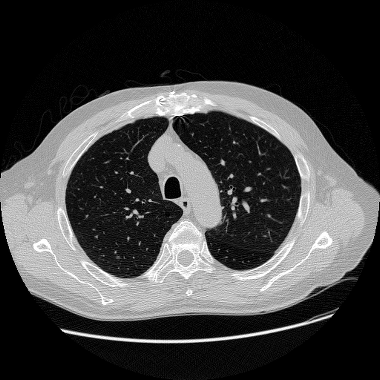nodule: (116, 255, 120, 259)
